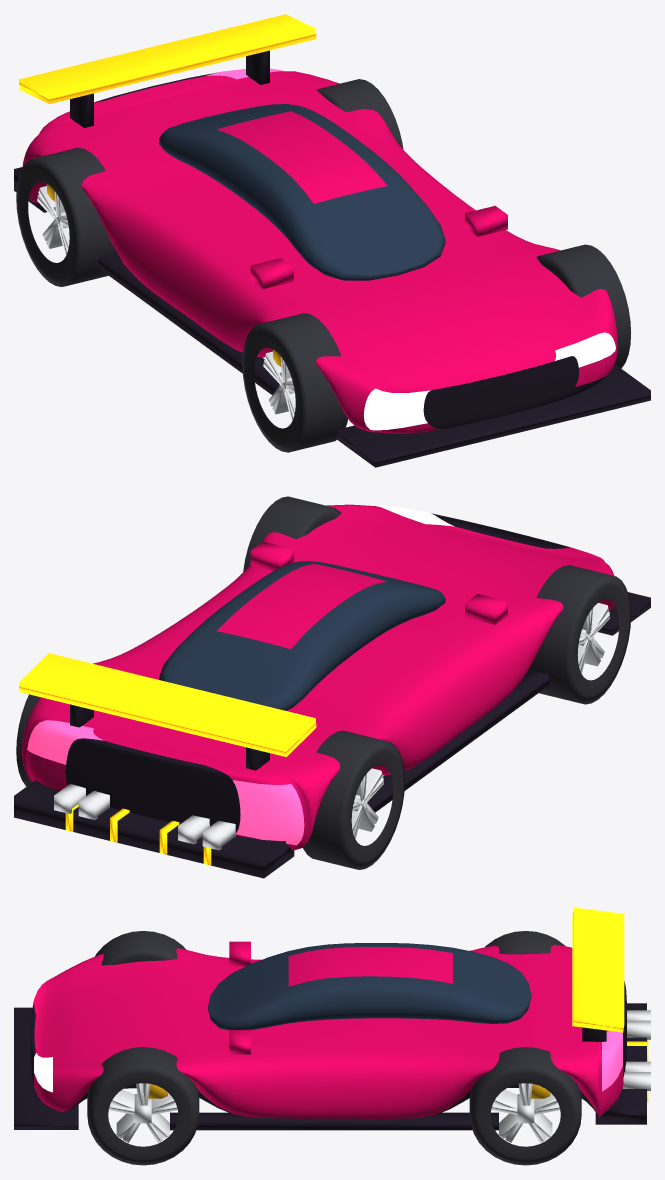
The model's file is barq_gt.glb.
The picture shows the model from 3 angles, top to bottom: view 1: azimuth 30°, elevation 25°; view 2: azimuth 150°, elevation 25°; view 3: azimuth 270°, elevation 25°; orthographic projection. The views are drawn at different scales.
Visible parts, largest first — view 1: Chassis, Wheel_FR, Wheel_RR, Wheel_FL, Wheel_RL; view 2: Chassis, Wheel_FR, Wheel_RR, Wheel_FL, Wheel_RL; view 3: Chassis, Wheel_FL, Wheel_RL, Wheel_FR, Wheel_RR.
Part boxes in pixels (x1,y1,x2,y2): Chassis: (14,14,650,467); Wheel_FR: (242,313,347,452); Wheel_RR: (16,147,116,286); Wheel_FL: (536,244,631,368); Wheel_RL: (316,79,403,149); Chassis: (14,504,650,878); Wheel_FR: (528,565,631,704); Wheel_RR: (303,730,404,869); Wheel_FL: (243,496,341,571); Wheel_RL: (16,694,40,786); Chassis: (14,907,650,1130); Wheel_FL: (87,1047,199,1165); Wheel_RL: (469,1047,581,1165); Wheel_FR: (95,931,186,965); Wheel_RR: (485,931,565,954).
Bounding box in the file's own units: 2.38 × 1.13 × 4.73.
